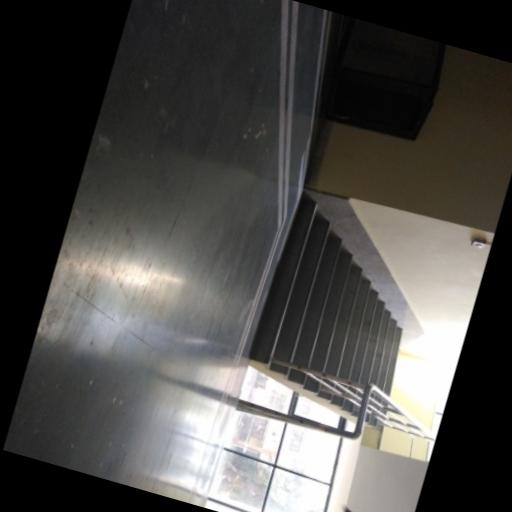stairs: (250, 197, 400, 417)
